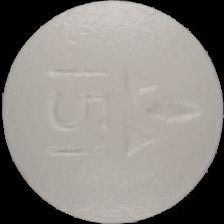54868-4705: (0, 0, 224, 224)
